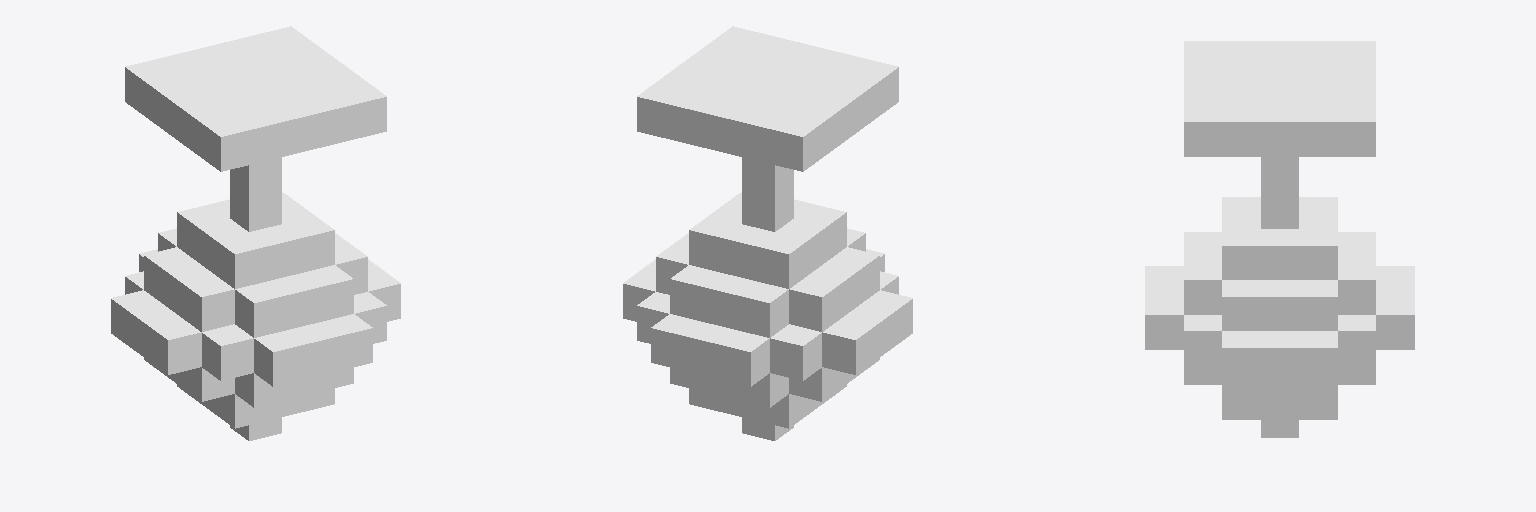
Rendered from disco1.obj.
3 views of the same model, side by side, from view 1: azimuth 30°, elevation 25°; view 2: azimuth 150°, elevation 25°; view 3: azimuth 270°, elevation 25° (orthographic).
Parts seen in each view (by area): view 1: disco1; view 2: disco1; view 3: disco1.
Boxes of the visible parts, x1=… form: disco1: x1=111, y1=26, x2=400, y2=440; disco1: x1=623, y1=26, x2=912, y2=440; disco1: x1=1145, y1=41, x2=1414, y2=437.
Size of the model in its own units: 7 by 10 by 7.